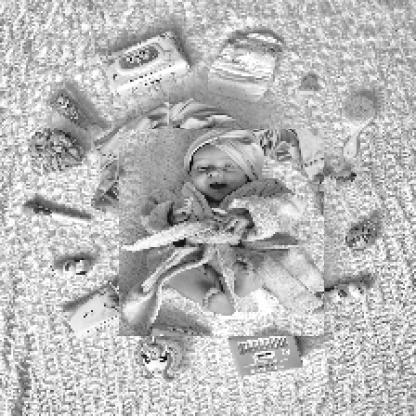child: (120, 130, 326, 338)
